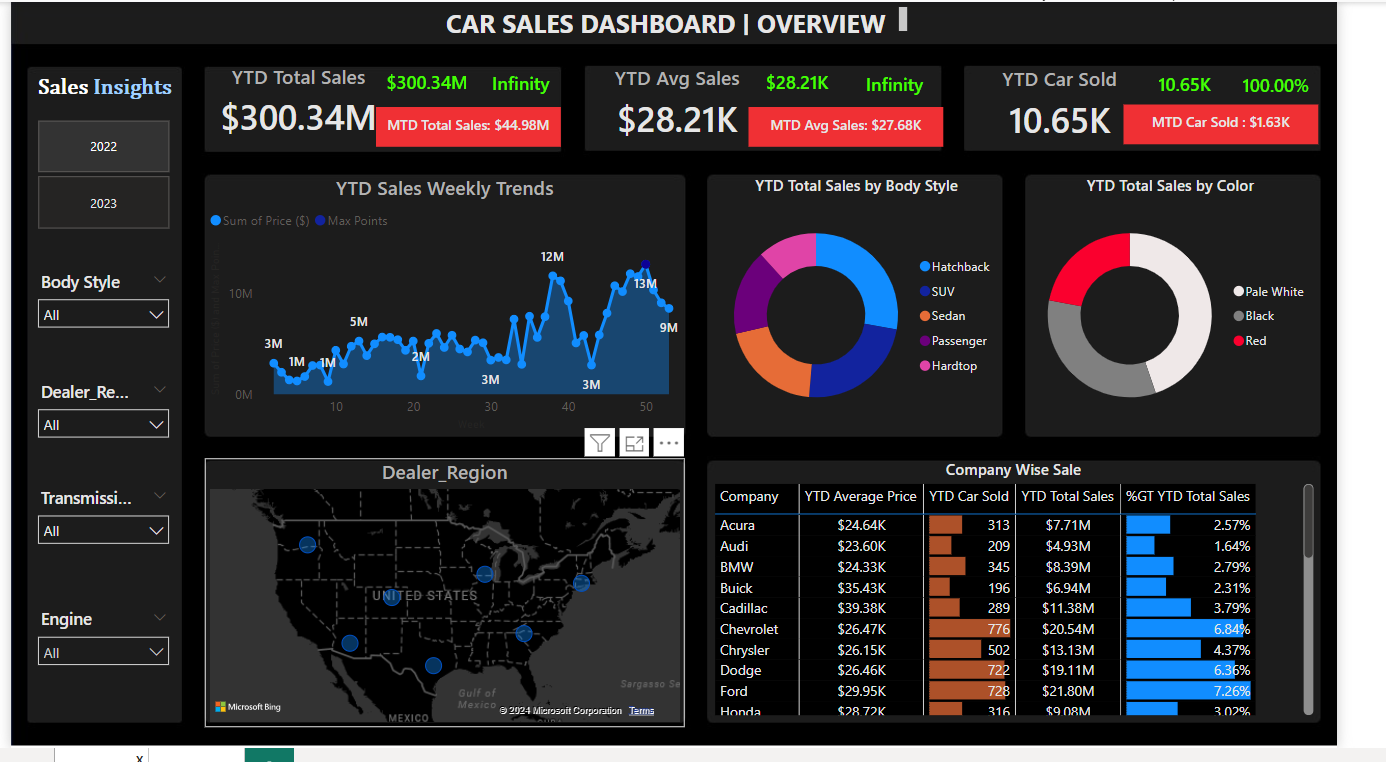

Layout of this report page (visuals, bound fields, positions):
{"tool":"powerbi","page":{"name":"Page 1","canvas":[1280,720],"ordinal":0},"visuals":[{"type":"card","title":"YTD Total Sales","fields":{"Values":["car_data.YTD Total Sales"]},"box":[187,59.1,181,79.6],"z":0},{"type":"card","title":"YTD Total Sales","fields":{"Values":["car_data.Sales Difference"]},"box":[352.3,59.1,98.9,39.8],"z":1000},{"type":"card","title":"YTD Total Sales","fields":{"Values":["car_data.YOY Sales Growth"]},"box":[451.2,60.3,82,39.8],"z":2000},{"type":"card","title":"YTD Total Sales","fields":{"Values":["car_data.MTD KPI"]},"box":[352.3,101.3,178.6,38.6],"z":3000},{"type":"card","title":"YTD Avg Sales","fields":{"Values":["car_data.YTD Average Price"]},"box":[556.2,60.3,173.7,79.6],"z":4000},{"type":"card","title":"YTD Total Sales","fields":{"Values":["car_data.Avg Price Difference"]},"box":[711.8,59.1,94.1,39.8],"z":5000},{"type":"card","title":"YTD Total Sales","fields":{"Values":["car_data.YOY Avg Price Growth"]},"box":[805.9,61.5,94.1,39.8],"z":6000},{"type":"card","title":"YTD Total Sales","fields":{"Values":["car_data.MTD AVG KPI"]},"box":[711.8,101.3,188.2,38.6],"z":7000},{"type":"card","title":"YTD Car Sold","fields":{"Values":["car_data.Car Sold"]},"box":[921.7,61.5,181,79.6],"z":8000},{"type":"card","title":"YTD Total Sales","fields":{"Values":["car_data.Car Sold Diffrences"]},"box":[1085.8,61.5,94.1,39.8],"z":9000},{"type":"card","title":"YTD Total Sales","fields":{"Values":["car_data.YOY Car SOld Growth"]},"box":[1179.9,62.7,82,39.8],"z":10000},{"type":"card","title":"YTD Total Sales","fields":{"Values":["car_data.MTD Car Sold KPI"]},"box":[1073.7,98.9,188.2,38.6],"z":11000},{"type":"areaChart","title":"YTD Sales Weekly Trends","fields":{"Category":["Calender Table.Week"],"Y":["Sum(car_data.Price ($))","car_data.Max Points"]},"box":[187,166.5,463.3,252.1],"z":12000},{"type":"donutChart","fields":{"Category":["car_data.Body Style"],"Y":["car_data.YTD Total Sales"]},"box":[673.2,166.5,285.9,252.1],"z":13000},{"type":"donutChart","fields":{"Y":["car_data.YTD Total Sales"],"Category":["car_data.Color"]},"box":[976,166.5,285.9,252.1],"z":14000},{"type":"tableEx","title":"Company Wise Sale","fields":{"Values":["car_data.Company","car_data.YTD Average Price","car_data.YTD Car Sold","car_data.YTD Total Sales1","car_data.YTD Total Sales"]},"box":[673.2,440.4,588.7,253.4],"z":15000},{"type":"textbox","box":[401.7,0,468.1,37.4],"z":16000},{"type":"slicer","fields":{"Values":["car_data.Body Style"]},"box":[15.7,253.4,147.2,78.4],"z":17000},{"type":"slicer","fields":{"Values":["car_data.Dealer_Region"]},"box":[15.7,359.5,147.2,66.4],"z":18000},{"type":"slicer","fields":{"Values":["car_data.Transmission"]},"box":[15.7,462.1,147.2,77.2],"z":19000},{"type":"slicer","fields":{"Values":["car_data.Engine"]},"box":[15.7,579.1,147.2,84.5],"z":20000},{"type":"map","fields":{"Category":["car_data.Dealer_Region"]},"box":[187,440.4,463.3,259.4],"z":21000},{"type":"textbox","box":[15.7,65.1,149.6,37.4],"z":22000},{"type":"slicer","fields":{"Values":["Calender Table.Year"]},"box":[0,107,177,118],"z":23000}]}

Visuals, with their boxes on the page's 1280x720 design canvas (x1, y1, x2, y2). These are canvas units, not pixel positions in the 1386x762 screenshot, which may show the page scaled, cropped or inside an application window:
"YTD Total Sales" card: select_region(187, 59, 368, 139)
"YTD Total Sales" card: select_region(352, 59, 451, 99)
"YTD Total Sales" card: select_region(451, 60, 533, 100)
"YTD Total Sales" card: select_region(352, 101, 531, 140)
"YTD Avg Sales" card: select_region(556, 60, 730, 140)
"YTD Total Sales" card: select_region(712, 59, 806, 99)
"YTD Total Sales" card: select_region(806, 62, 900, 101)
"YTD Total Sales" card: select_region(712, 101, 900, 140)
"YTD Car Sold" card: select_region(922, 62, 1103, 141)
"YTD Total Sales" card: select_region(1086, 62, 1180, 101)
"YTD Total Sales" card: select_region(1180, 63, 1262, 102)
"YTD Total Sales" card: select_region(1074, 99, 1262, 138)
"YTD Sales Weekly Trends" areaChart: select_region(187, 166, 650, 419)
donutChart - car_data.Body Style x car_data.YTD Total Sales: select_region(673, 166, 959, 419)
donutChart - car_data.YTD Total Sales x car_data.Color: select_region(976, 166, 1262, 419)
"Company Wise Sale" tableEx: select_region(673, 440, 1262, 694)
textbox: select_region(402, 0, 870, 37)
slicer - car_data.Body Style: select_region(16, 253, 163, 332)
slicer - car_data.Dealer_Region: select_region(16, 360, 163, 426)
slicer - car_data.Transmission: select_region(16, 462, 163, 539)
slicer - car_data.Engine: select_region(16, 579, 163, 664)
map - car_data.Dealer_Region: select_region(187, 440, 650, 700)
textbox: select_region(16, 65, 165, 102)
slicer - Calender Table.Year: select_region(0, 107, 177, 225)
